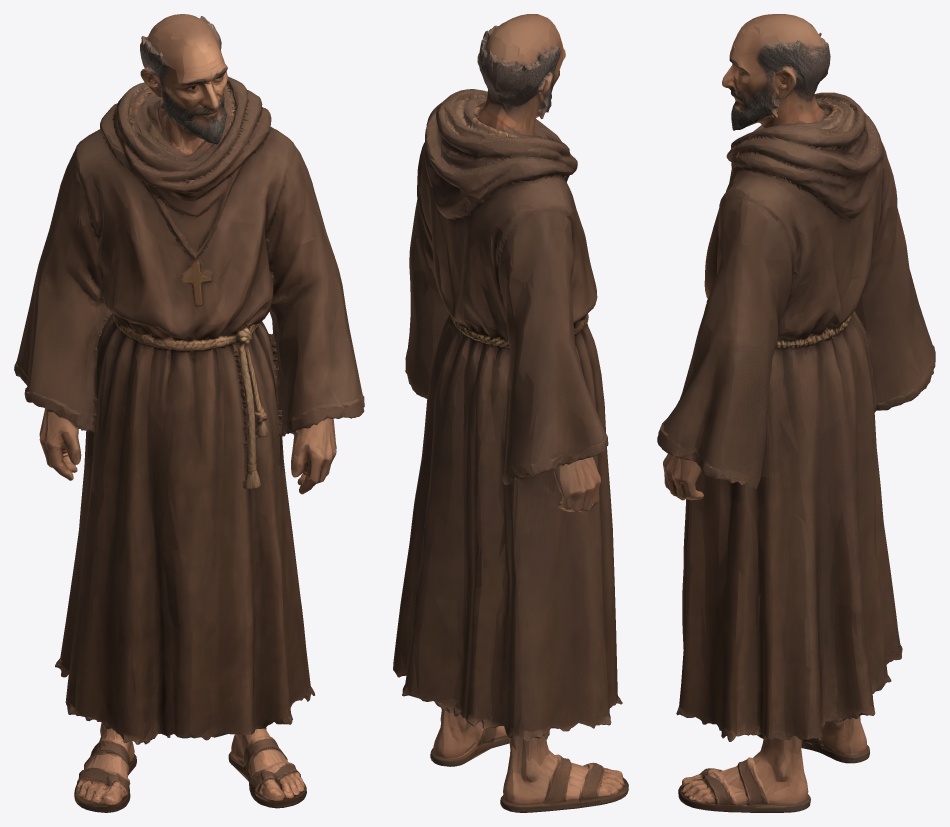
File: monk.glb
The picture shows the model from 3 angles, left to right: view 1: azimuth 30°, elevation 25°; view 2: azimuth 150°, elevation 25°; view 3: azimuth 270°, elevation 25°; orthographic projection.
Size of the model in its own units: 0.695 by 1.9 by 0.6357.
Materials: 1 (1 with a texture image).
